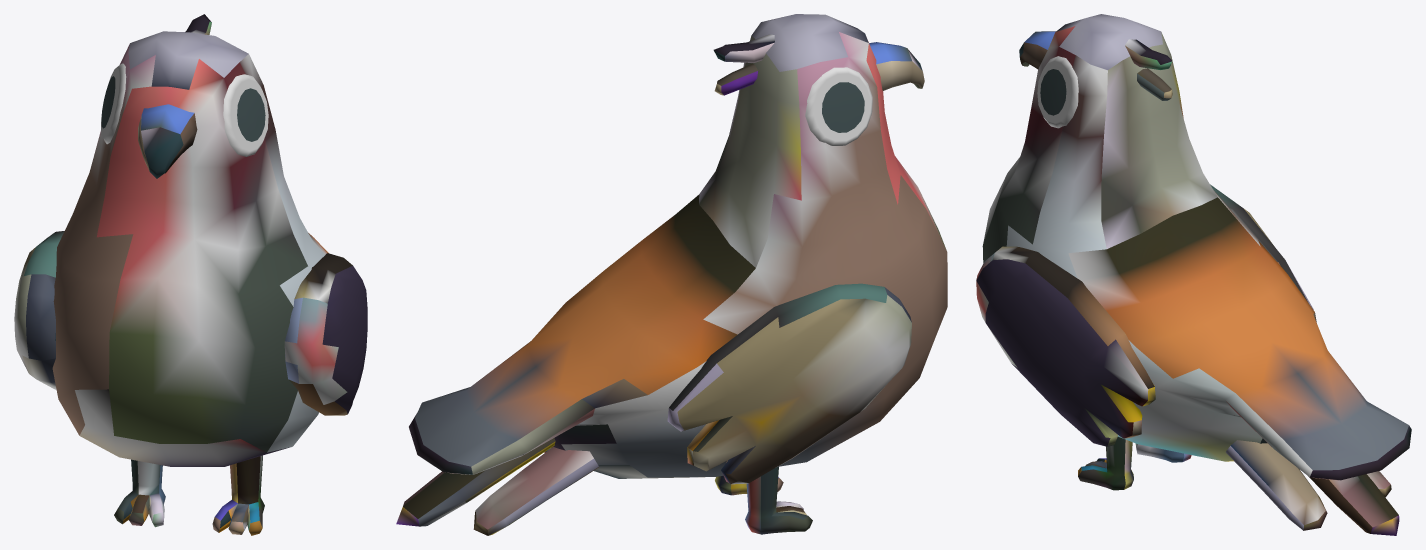
Rendered from GoldenEagle.glb.
3 views of the same model, side by side, from view 1: azimuth 30°, elevation 25°; view 2: azimuth 150°, elevation 25°; view 3: azimuth 270°, elevation 25° (orthographic). The views are drawn at different scales.
Visible parts, largest first — view 1: 60; view 2: 60; view 3: 60.
Part boxes in pixels (left/top/right/bottom): 60: left=14, top=14, right=367, bottom=535; 60: left=396, top=14, right=947, bottom=535; 60: left=976, top=14, right=1411, bottom=535.
Bounding box in the file's own units: 0.7792 × 0.8804 × 0.8045.
